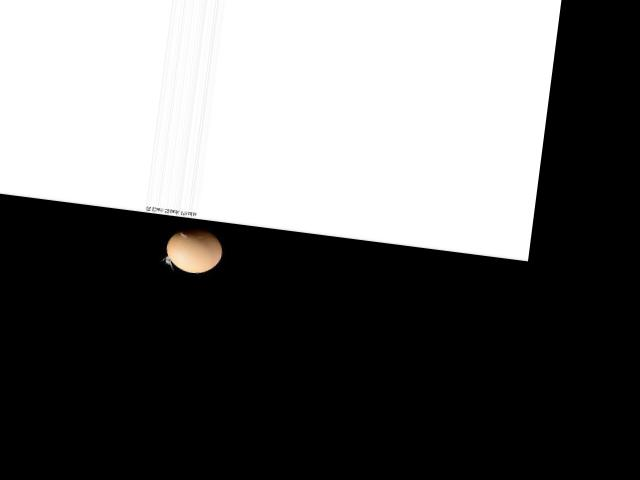egg: (164, 224, 225, 275)
